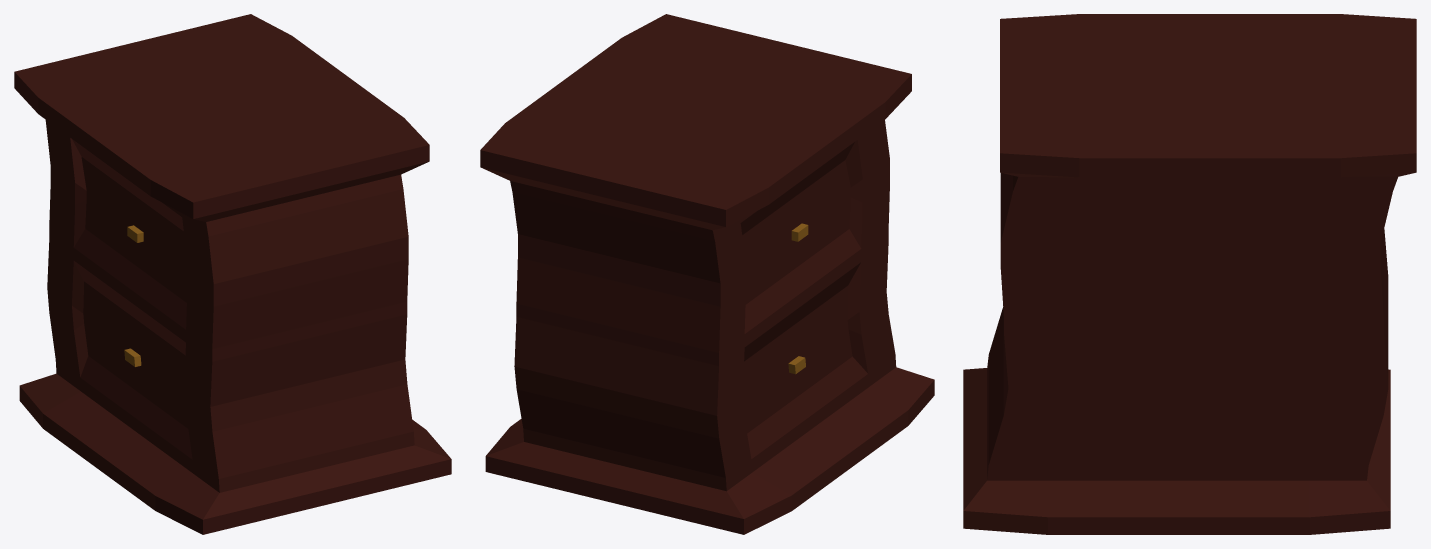
The model's file is kKommode3.fbx.
The picture shows the model from 3 angles, left to right: view 1: azimuth 30°, elevation 25°; view 2: azimuth 150°, elevation 25°; view 3: azimuth 270°, elevation 25°; orthographic projection. The views are drawn at different scales.
Visible parts, largest first — view 1: Schrank5.3; view 2: Schrank5.3; view 3: Schrank5.3.
Part boxes in pixels (box(x1,y1,x2,y2)): Schrank5.3: box(14, 14, 451, 534); Schrank5.3: box(480, 14, 934, 534); Schrank5.3: box(963, 14, 1416, 534).
Size of the model in its own units: 126 by 141 by 156.
